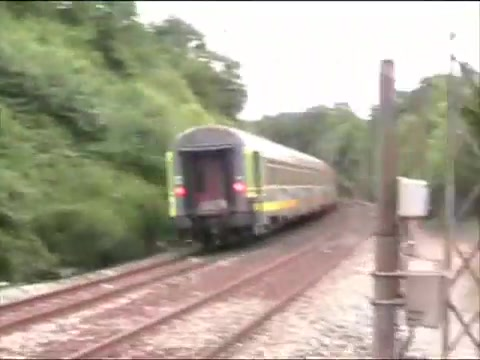train: (163, 123, 340, 253)
